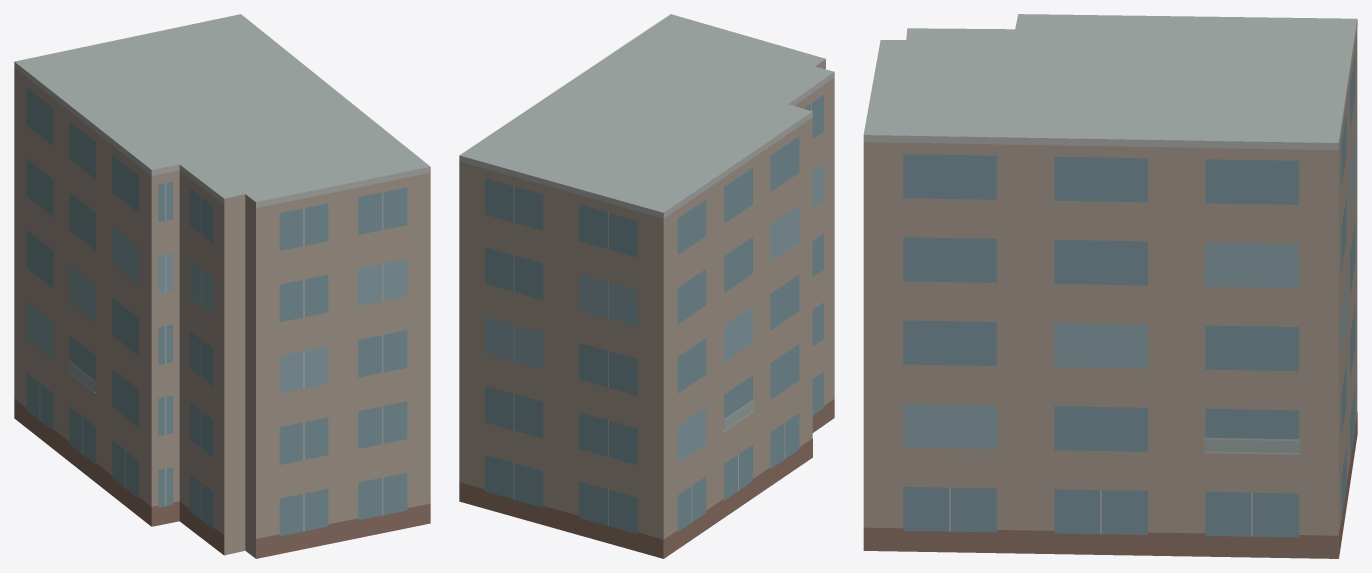
File: survey-upis-32830186.glb
3 renders of one model, left to right at view 1: azimuth 30°, elevation 25°; view 2: azimuth 150°, elevation 25°; view 3: azimuth 270°, elevation 25°, orthographic. The views are drawn at different scales.
Parts seen in each view (by area): view 1: survey-upis-32830186.tmp; view 2: survey-upis-32830186.tmp; view 3: survey-upis-32830186.tmp.
Part boxes in pixels (x1,y1,x2,y2): survey-upis-32830186.tmp: (14,14,430,558); survey-upis-32830186.tmp: (459,14,834,558); survey-upis-32830186.tmp: (863,14,1357,558).
Size of the model in its own units: 9.6 by 14.4 by 15.51.
